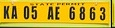character: (46, 5, 54, 20), (3, 5, 10, 20), (22, 5, 29, 20), (99, 6, 106, 21), (68, 6, 75, 20), (78, 6, 85, 20), (11, 5, 17, 20), (30, 5, 36, 20), (89, 6, 95, 21), (54, 6, 59, 20)
